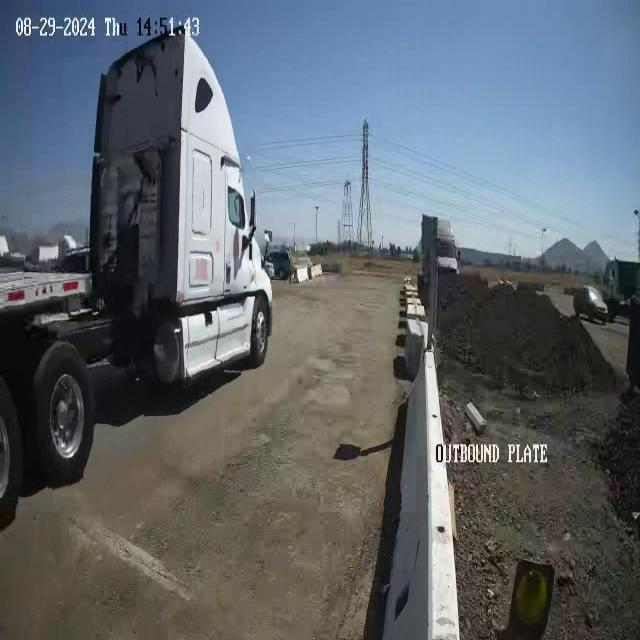BOBTAIL: (0, 18, 274, 522)
